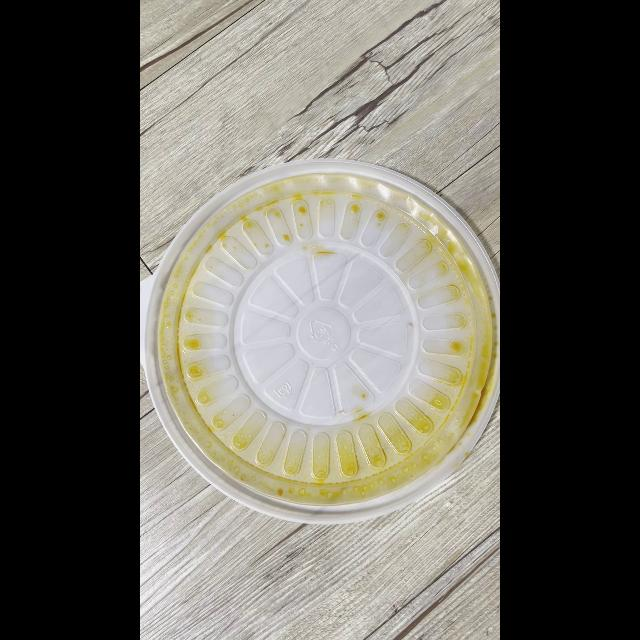dirty: (148, 166, 500, 518)
